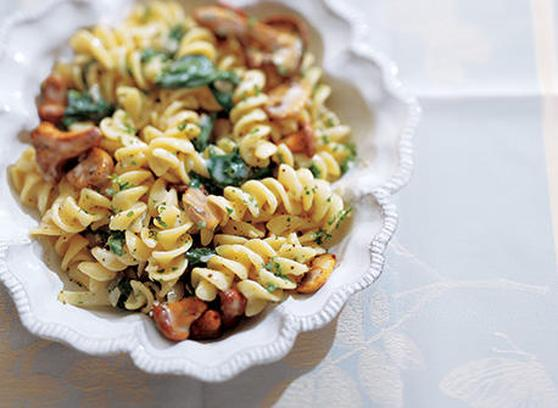spaghetti: (45, 48, 345, 336)
